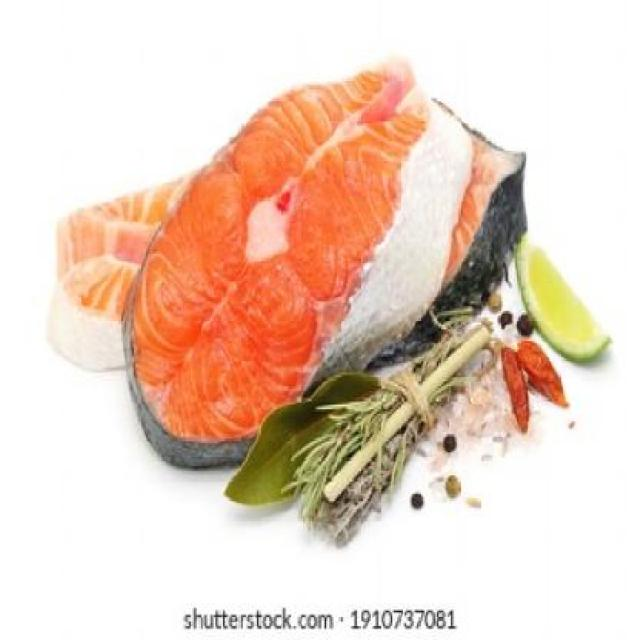salmon: (117, 52, 447, 473)
